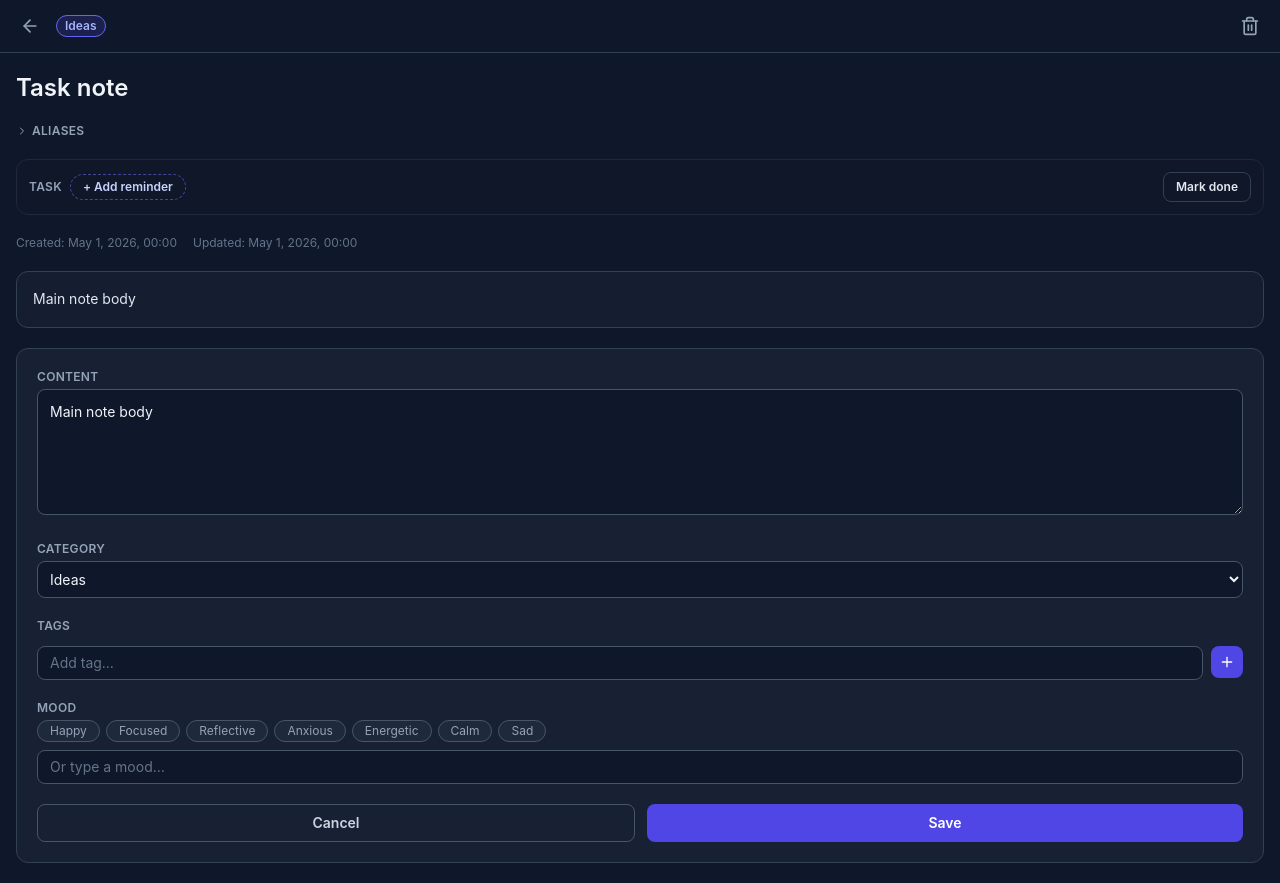
Test: NoteDetailPage task panel › marks a note done and updates done_at locally
Click the button "Mark done" at (1207,187), box [1163, 172, 1251, 202]
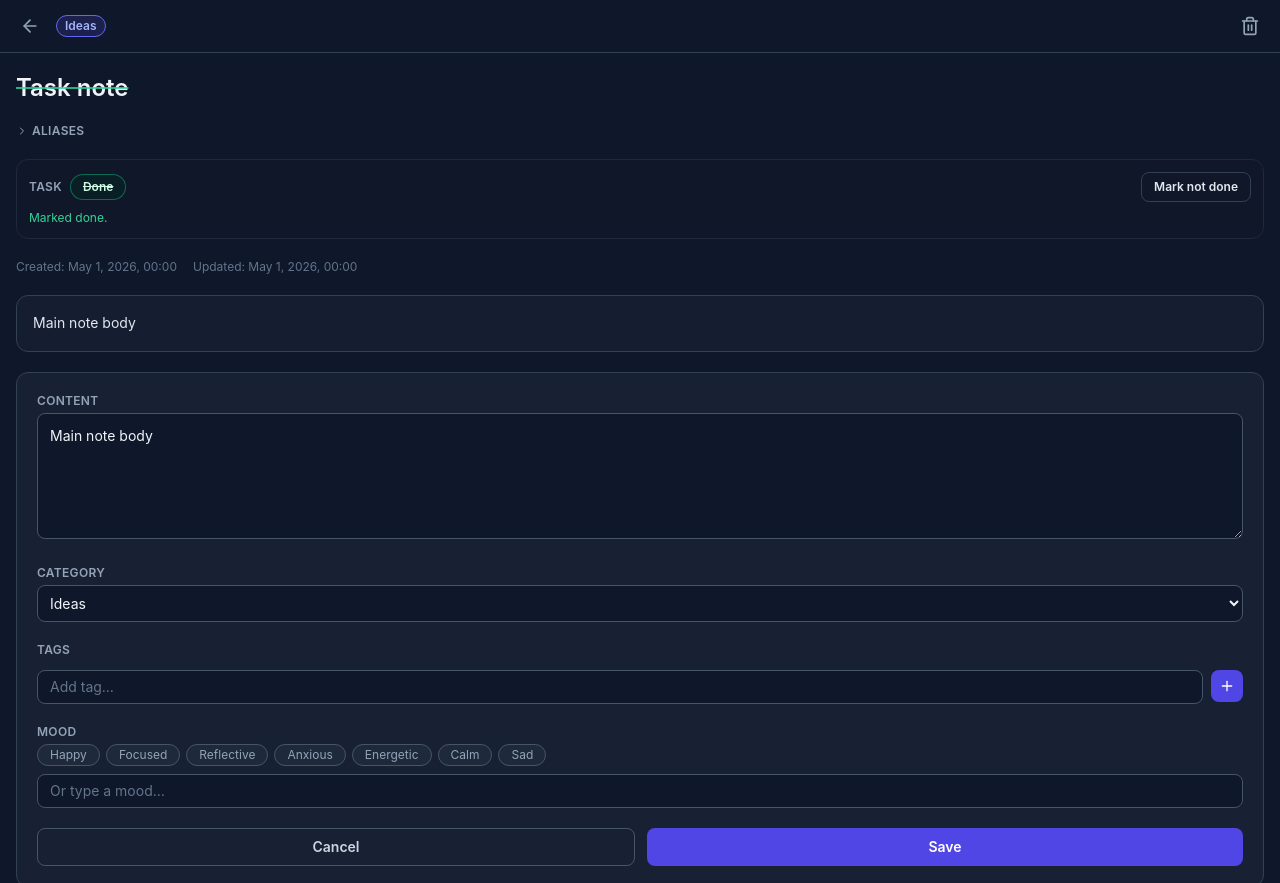
Result: the button "Mark not done" is shown at [1141, 172, 1251, 202]
